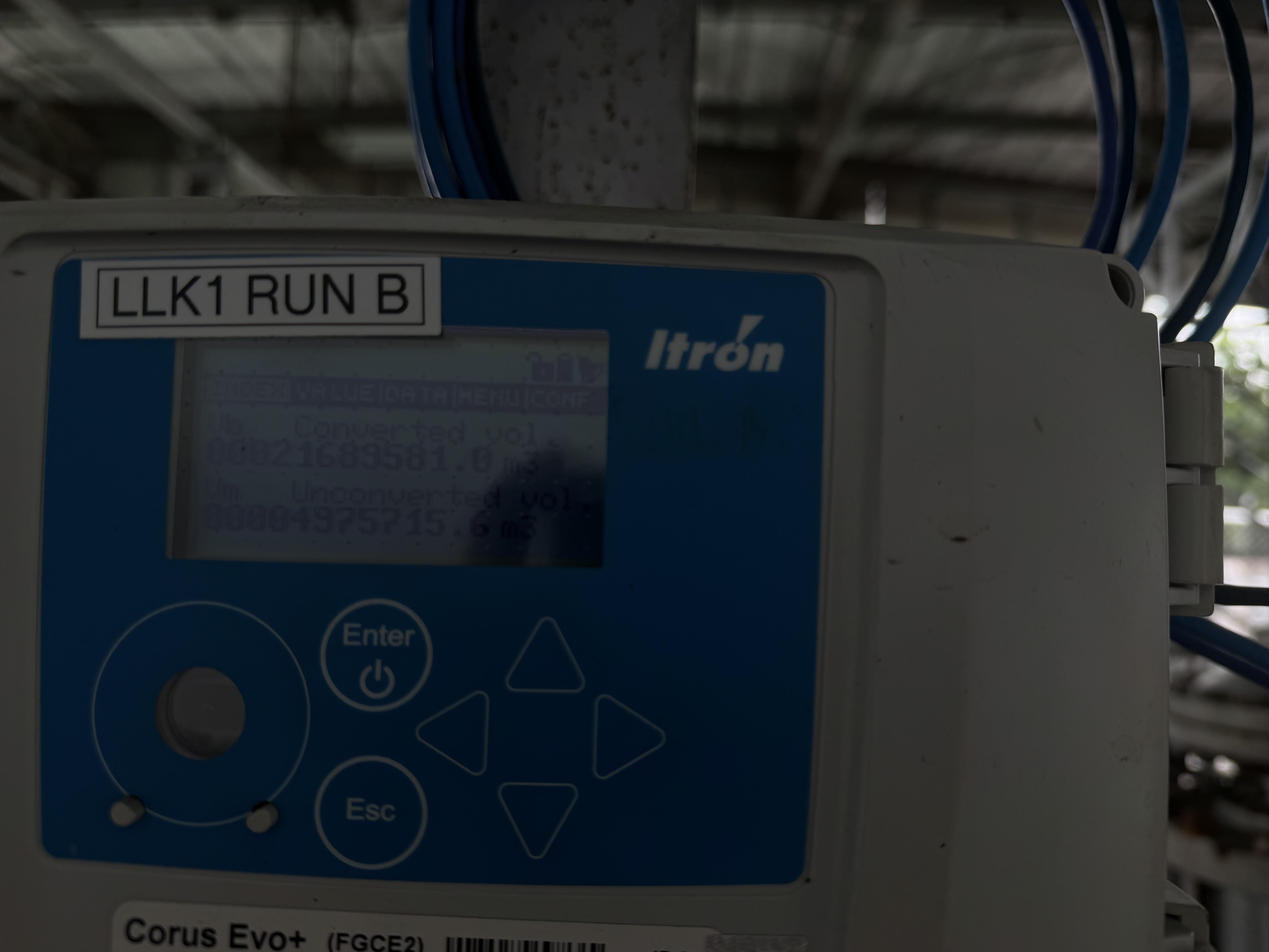digital_screen: (167, 321, 609, 568)
